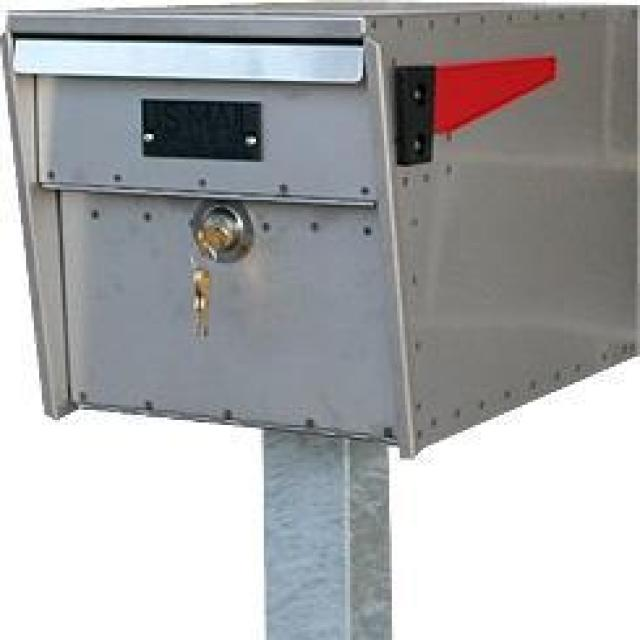Post Box: (2, 2, 640, 462)
